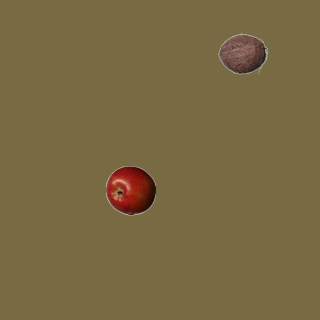Apple Braeburn: (105, 165, 155, 215)
Cocos: (217, 28, 267, 78)
